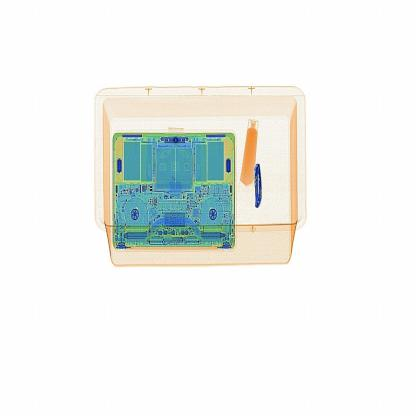knife: (252, 155, 276, 218)
